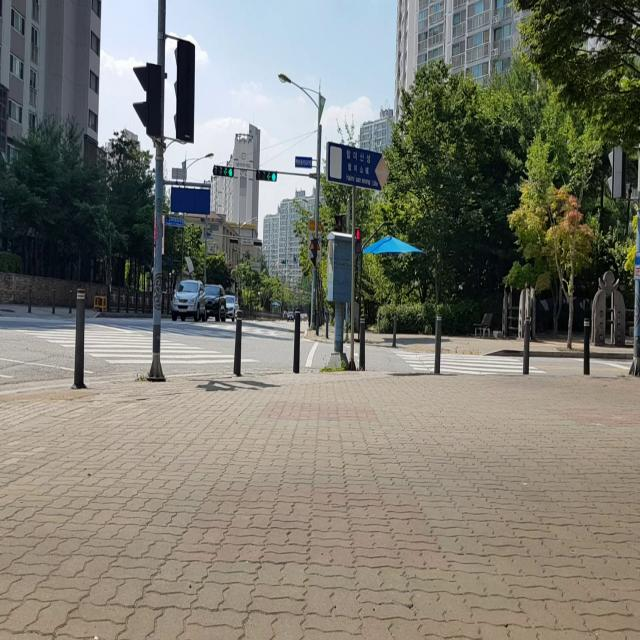빨간불: (355, 225, 363, 253), (333, 214, 343, 231)
횡단보도: (3, 316, 260, 368), (389, 348, 547, 374)
